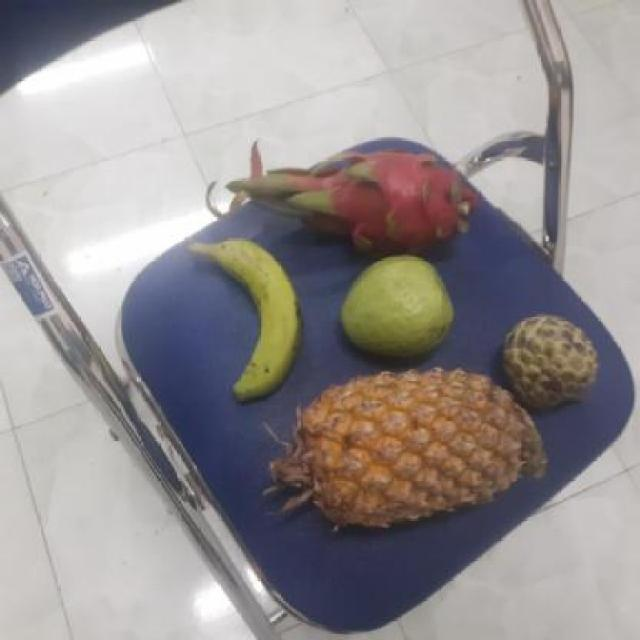banana: (195, 240, 302, 395)
dragon fruit: (305, 138, 467, 257)
guava: (335, 255, 456, 358)
pineapple: (274, 371, 540, 527)
sugar apple: (494, 315, 598, 413)
